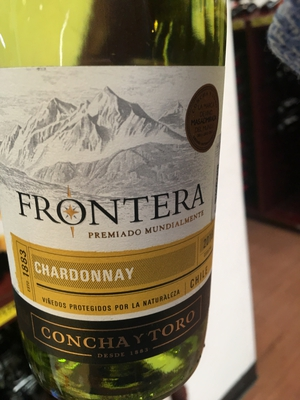frontera chardonnay: (1, 20, 235, 398)
